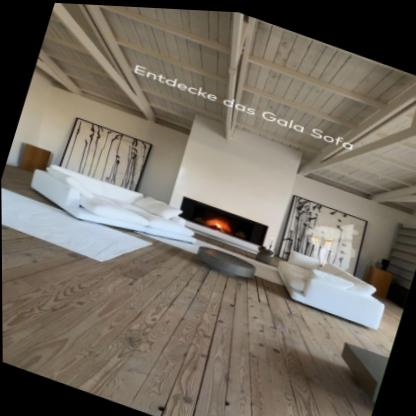Sofa: (23, 149, 213, 262), (264, 238, 396, 329)
Wooden floor: (1, 222, 403, 416)
